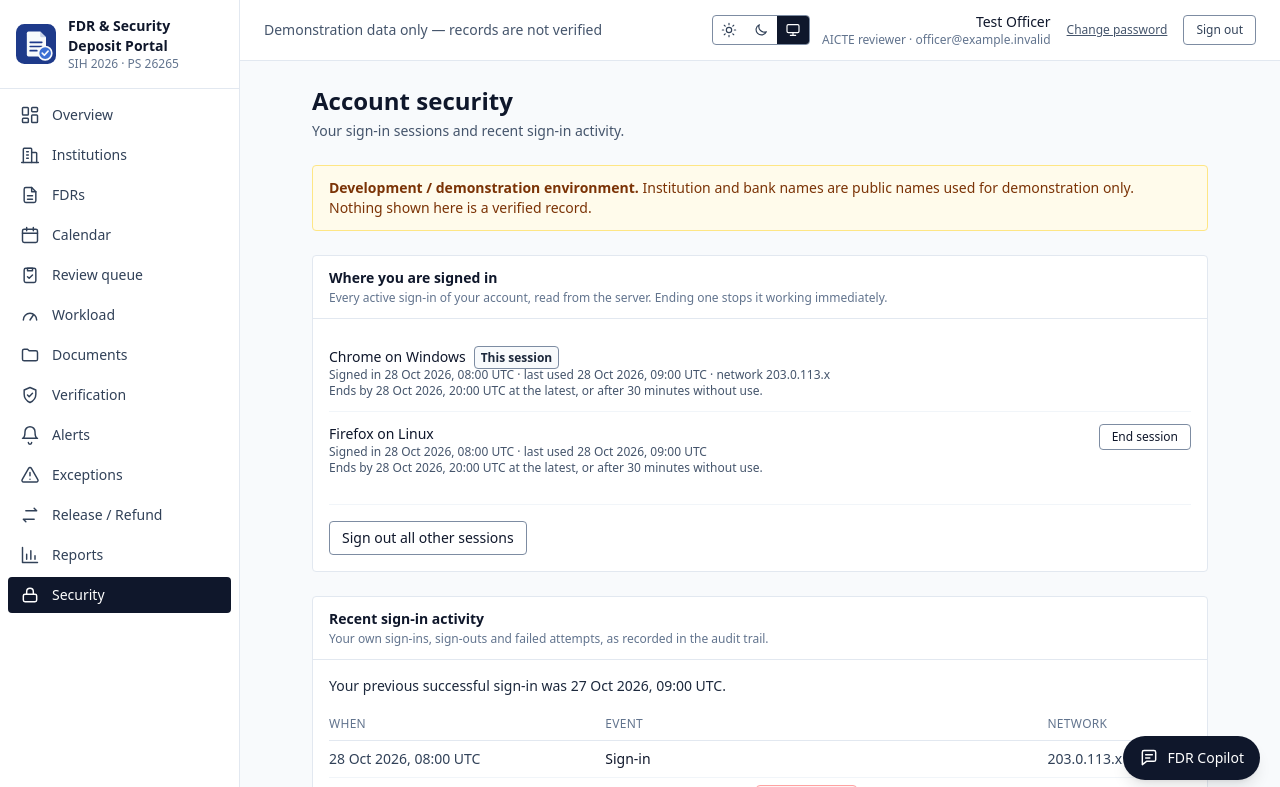
Test: account security page › cancelling a confirmation changes nothing
What coordinates should you click on to do the following:
click the button with aria-label "End the Firefox on Linux session"
I would click on:
 (1145, 437)
Its box is [1099,424,1191,450].
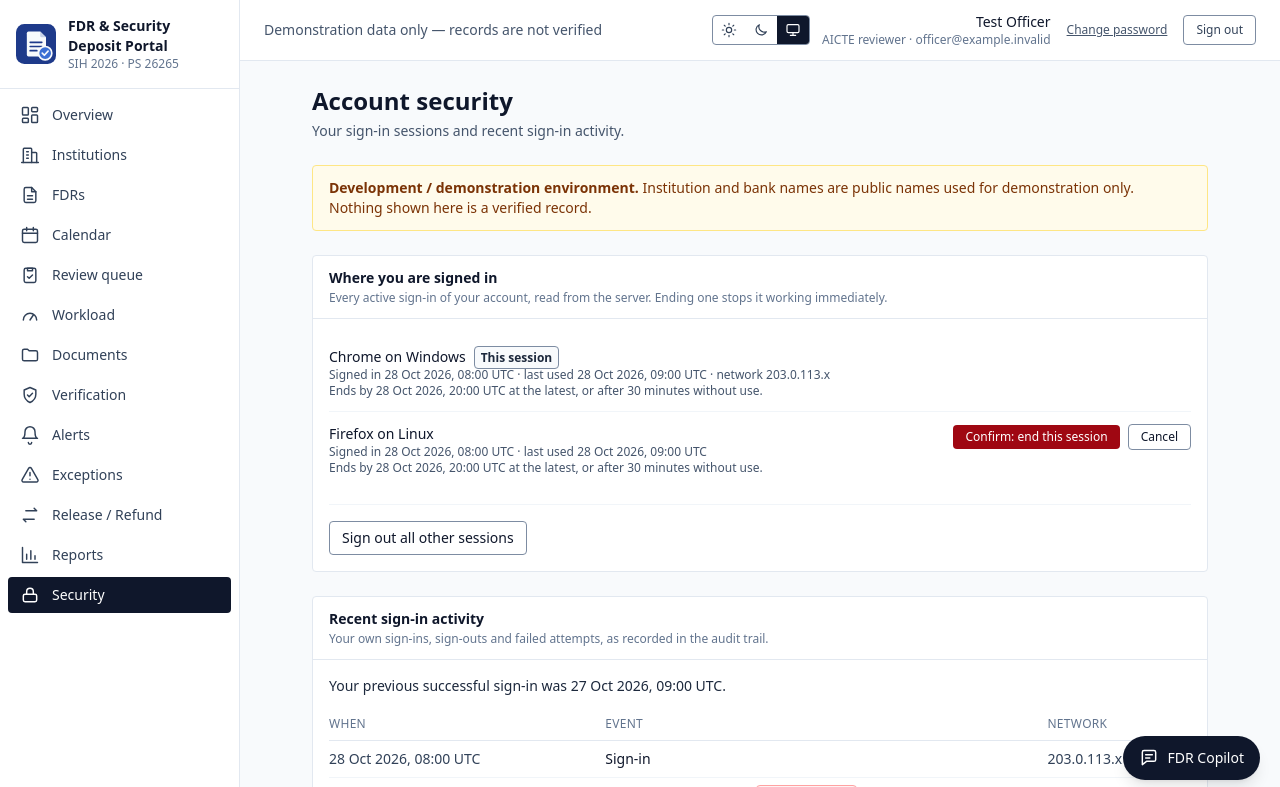
What coordinates should you click on to do the following:
click the button "Cancel"
I would click on:
 (1159, 437)
Its box is [1128,424,1191,450].
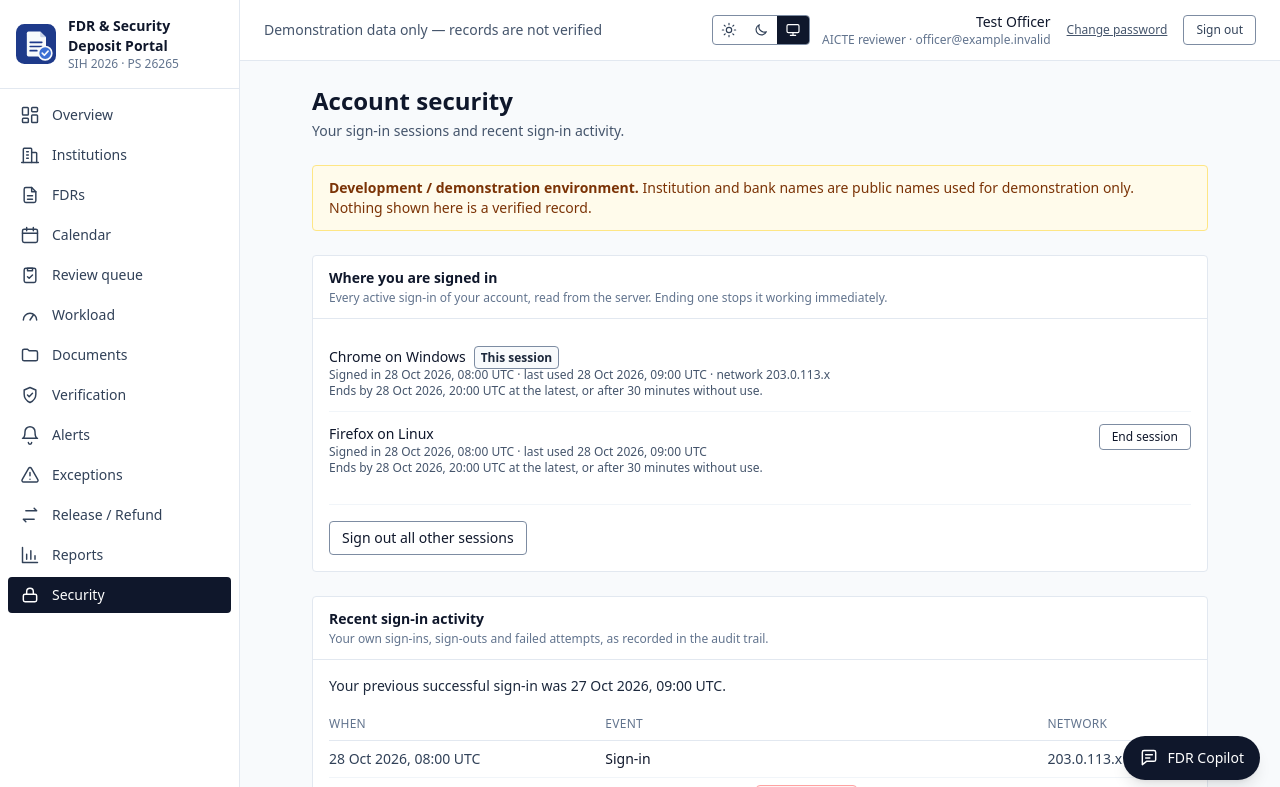
Expected: the button with aria-label "End the Firefox on Linux session" is shown, [1099,424,1191,450]
